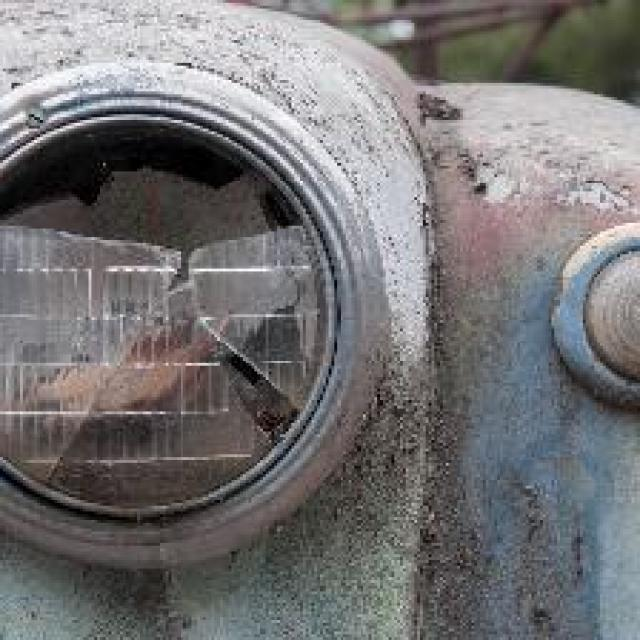damaged: (0, 2, 637, 638)
